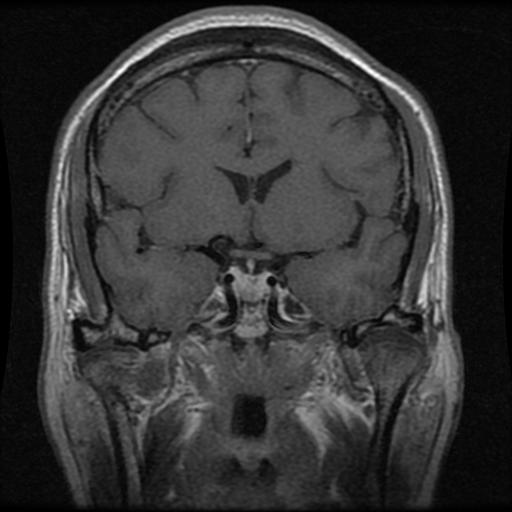Pituirity_tumour: (233, 273, 267, 299)
